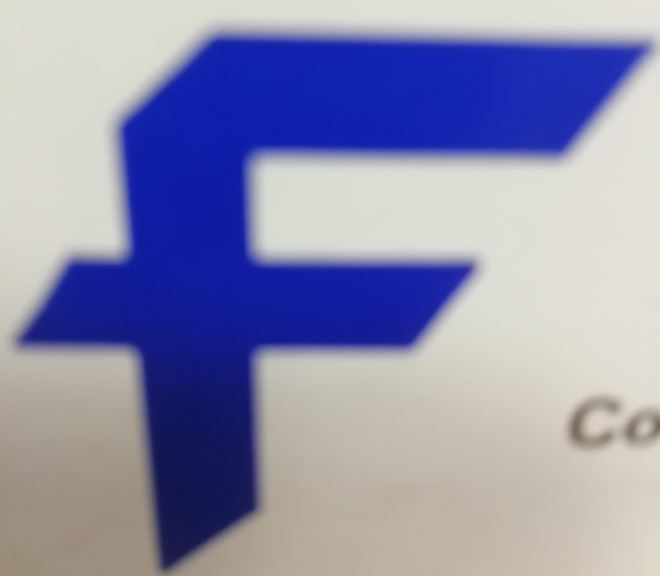Fisher: (8, 36, 652, 571)
